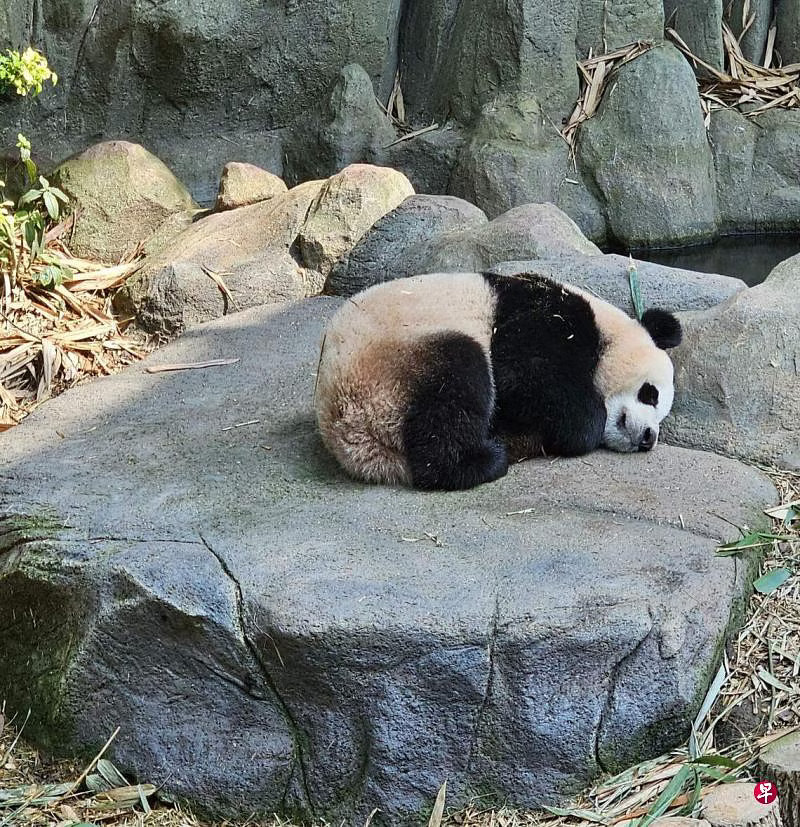Giant panda: (583, 283, 685, 468)
